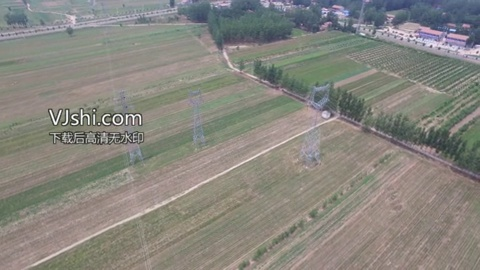tower_body: (293, 78, 338, 172), (183, 87, 212, 151)
tower_foot: (297, 141, 320, 167), (190, 129, 205, 148)
tower_head: (305, 82, 335, 111), (187, 89, 205, 108)
